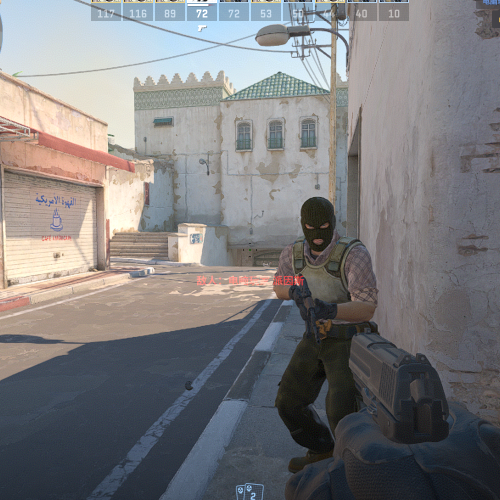t_body: (273, 196, 376, 469)
t_head: (300, 197, 335, 248)
